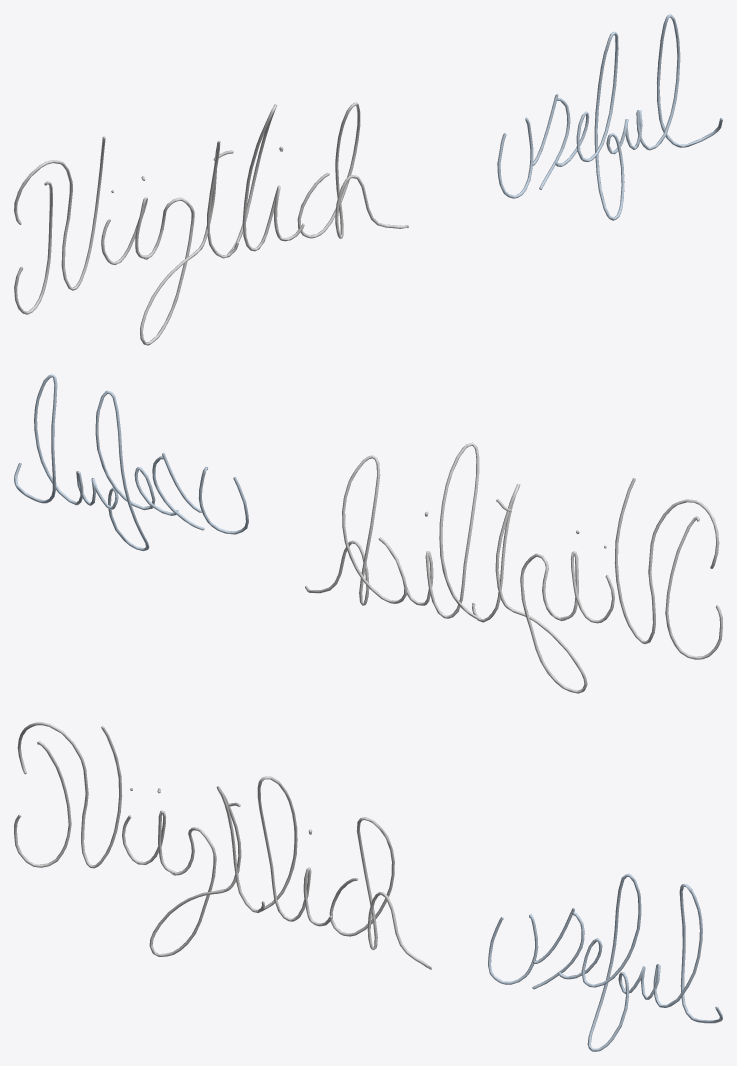
Rendered from Nuztlich.glb.
The picture shows the model from 3 angles, top to bottom: view 1: azimuth 30°, elevation 25°; view 2: azimuth 150°, elevation 25°; view 3: azimuth 330°, elevation 25°; orthographic projection.
Visible parts, largest first — view 1: Mesh_25.008; view 2: Mesh_25.008; view 3: Mesh_25.008.
Part boxes in pixels (<box>): Mesh_25.008: <box>14,14,722,345</box>; Mesh_25.008: <box>14,374,722,693</box>; Mesh_25.008: <box>14,722,722,1051</box>.
Size of the model in its own units: 2.57 by 0.7784 by 0.1948.
